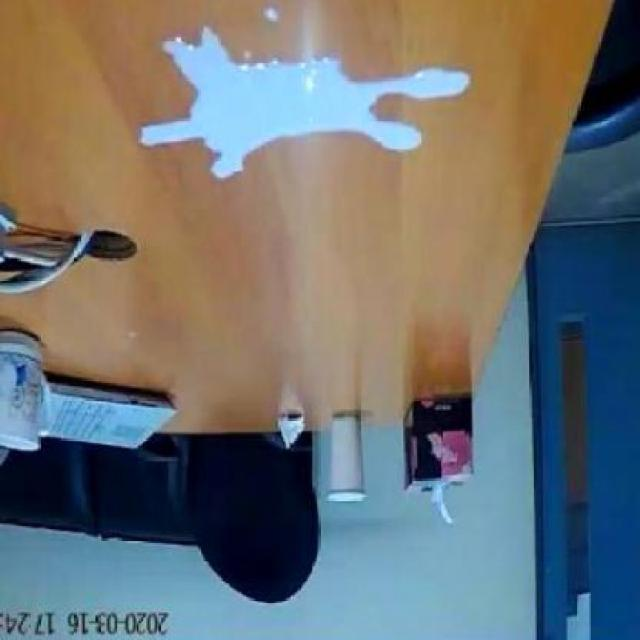spillage: (149, 26, 471, 178)
